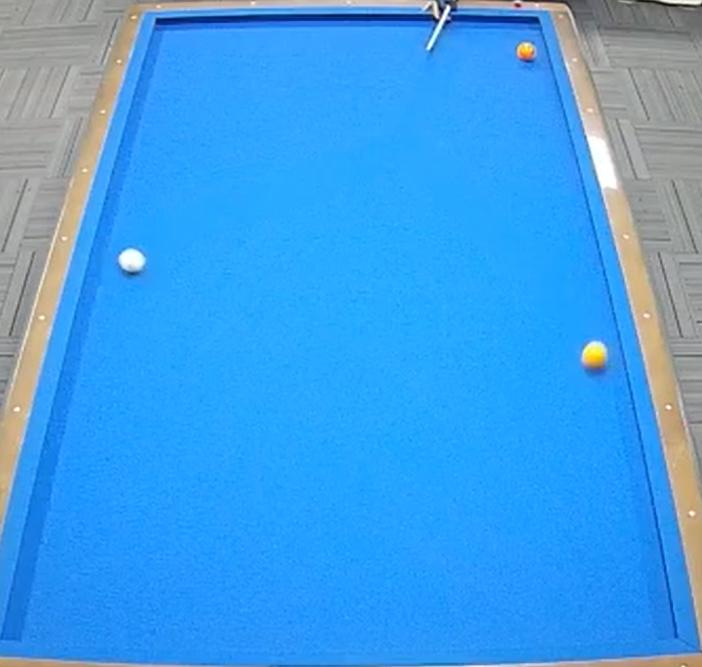orange ball: (513, 39, 539, 68)
white ball: (114, 245, 151, 281)
yellow ball: (573, 337, 614, 379)
